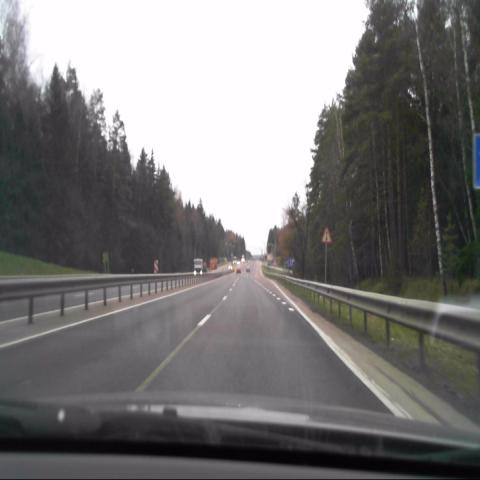1_8: (318, 225, 334, 244)
